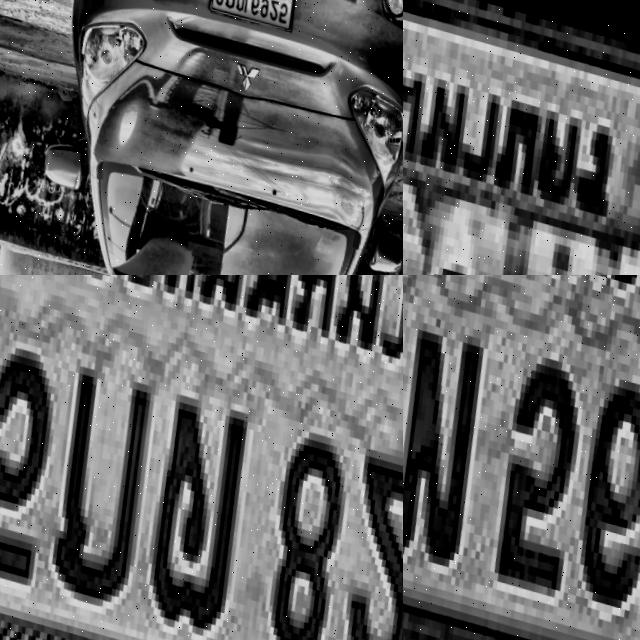license-plate: (0, 275, 403, 640), (403, 275, 640, 640), (403, 0, 640, 275), (200, 0, 299, 27)
